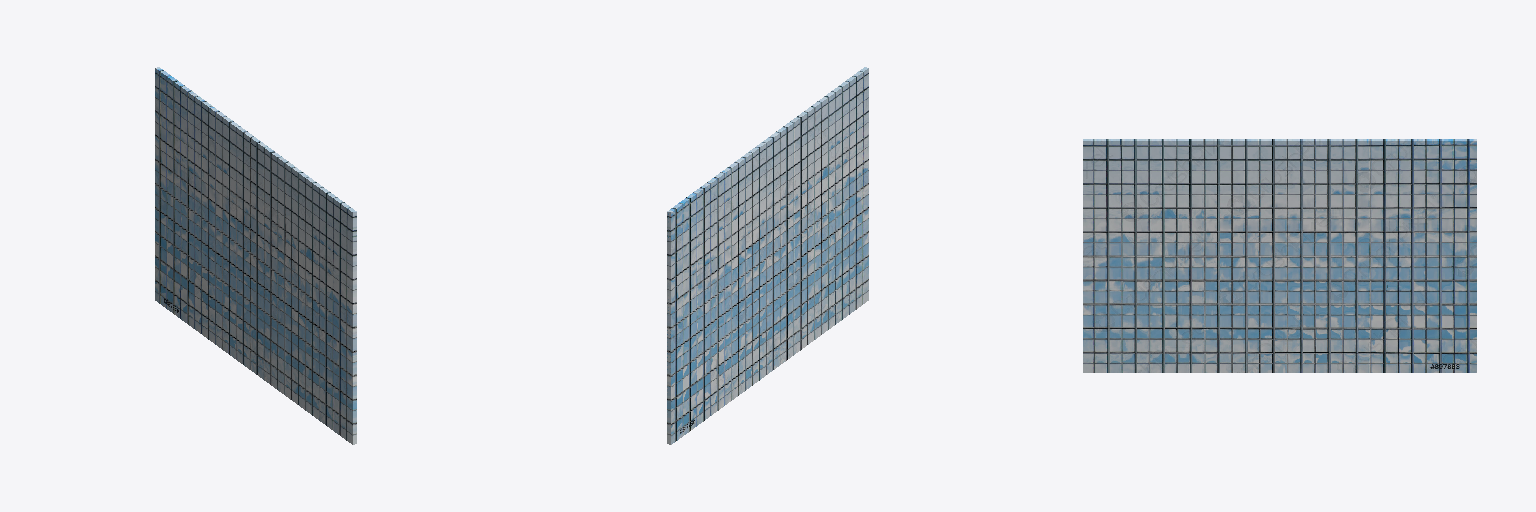
The picture shows the model from 3 angles: view 1: azimuth 30°, elevation 25°; view 2: azimuth 150°, elevation 25°; view 3: azimuth 270°, elevation 25°; orthographic projection.
Visible parts, largest first — view 1: pCube24; view 2: pCube24; view 3: pCube24.
Boxes of the visible parts, x1=… form: pCube24: x1=155, y1=67, x2=356, y2=444; pCube24: x1=667, y1=67, x2=868, y2=444; pCube24: x1=1083, y1=139, x2=1476, y2=372.
Size of the model in its own units: 0.0947 by 5.08 by 7.82.
Materials: 1 (1 with a texture image).